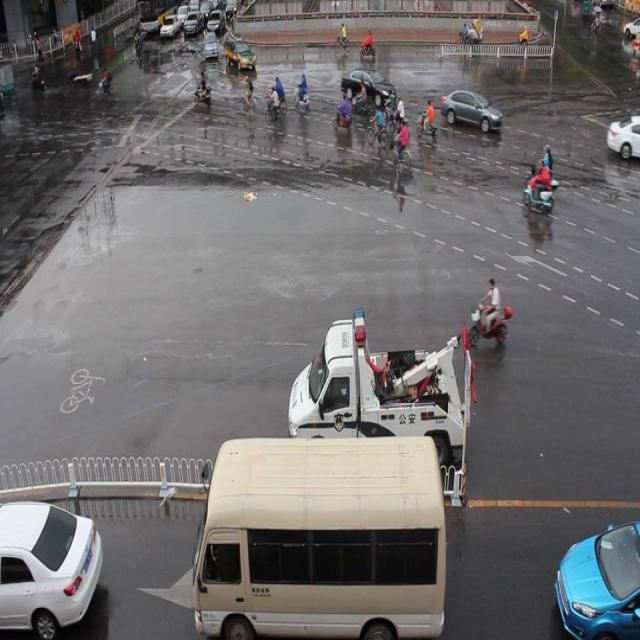bus: (289, 306, 475, 472)
car: (0, 496, 104, 640), (552, 518, 640, 640), (439, 84, 502, 133), (340, 64, 396, 107), (604, 112, 640, 161), (225, 37, 256, 72), (203, 28, 219, 61)
truck: (191, 431, 447, 640)
